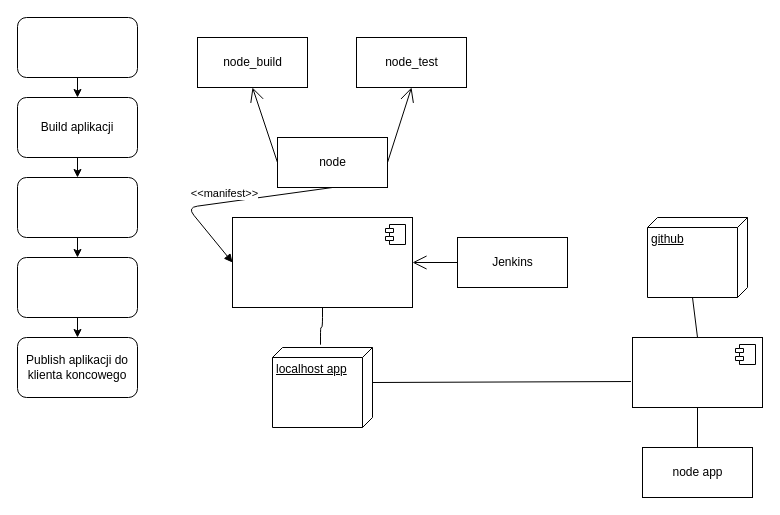
Some shapes in this 780 by 515 pixel diagram are drawn without their labels. Each missing label, with the box of its shape:
Deploy aplikacji: (16, 256, 138, 318)
Klonowanie repozytorium i wpuszczenie jej do woluminu: (16, 16, 138, 78)
Test aplikacji: (16, 176, 138, 238)
«component» docker: (232, 216, 412, 308)
«component» git: (632, 336, 762, 408)
